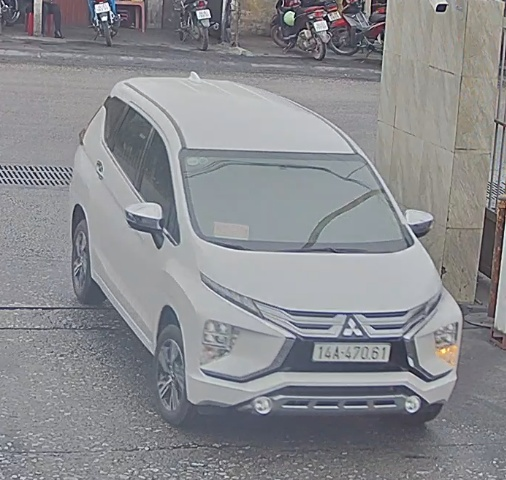vehicle plate: (309, 332, 400, 370)
